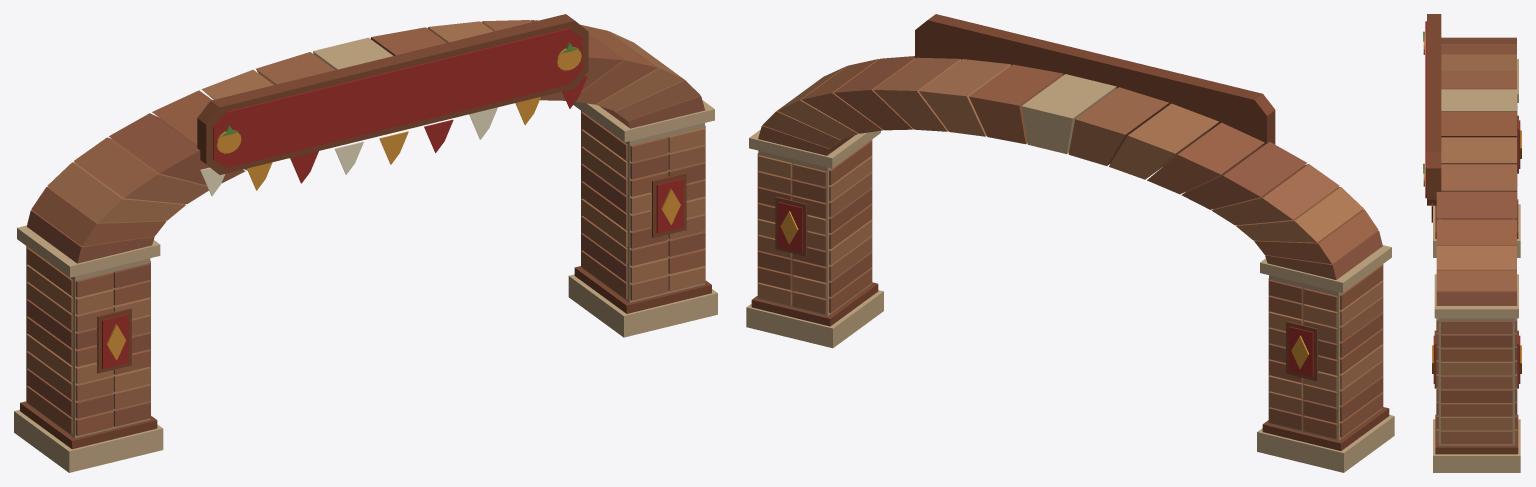
Rendered from Stage2_FestivalEntrance.glb.
3 renders of one model, left to right at view 1: azimuth 30°, elevation 25°; view 2: azimuth 150°, elevation 25°; view 3: azimuth 270°, elevation 25°, orthographic. The views are drawn at different scales.
Parts seen in each view (by area): view 1: Stage2_FestivalEntrance; view 2: Stage2_FestivalEntrance; view 3: Stage2_FestivalEntrance.
Boxes of the visible parts, left/top/right/bottom form: Stage2_FestivalEntrance: left=14, top=14, right=717, bottom=472; Stage2_FestivalEntrance: left=746, top=14, right=1394, bottom=472; Stage2_FestivalEntrance: left=1423, top=14, right=1521, bottom=472.
Bounding box in the file's own units: 13.92 × 6.82 × 2.31.
